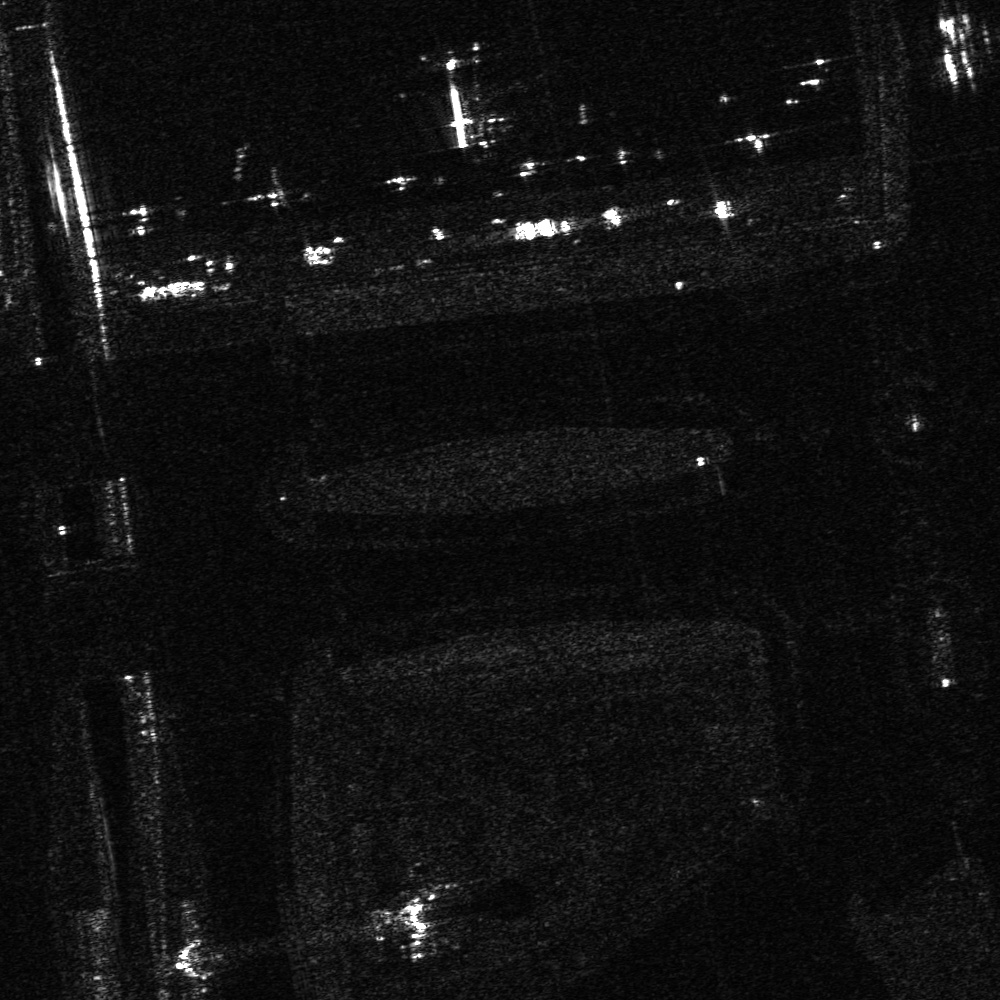Boeing787: (385, 46, 538, 158)
